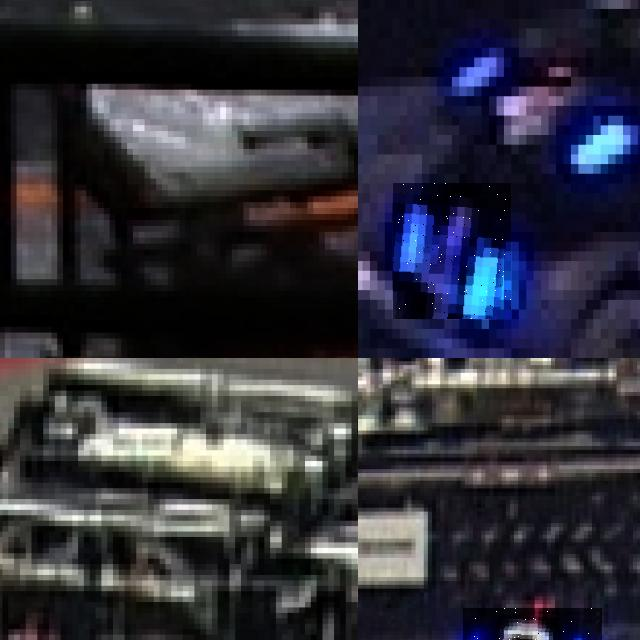B2: (462, 608, 602, 640)
B4: (393, 183, 511, 320)
